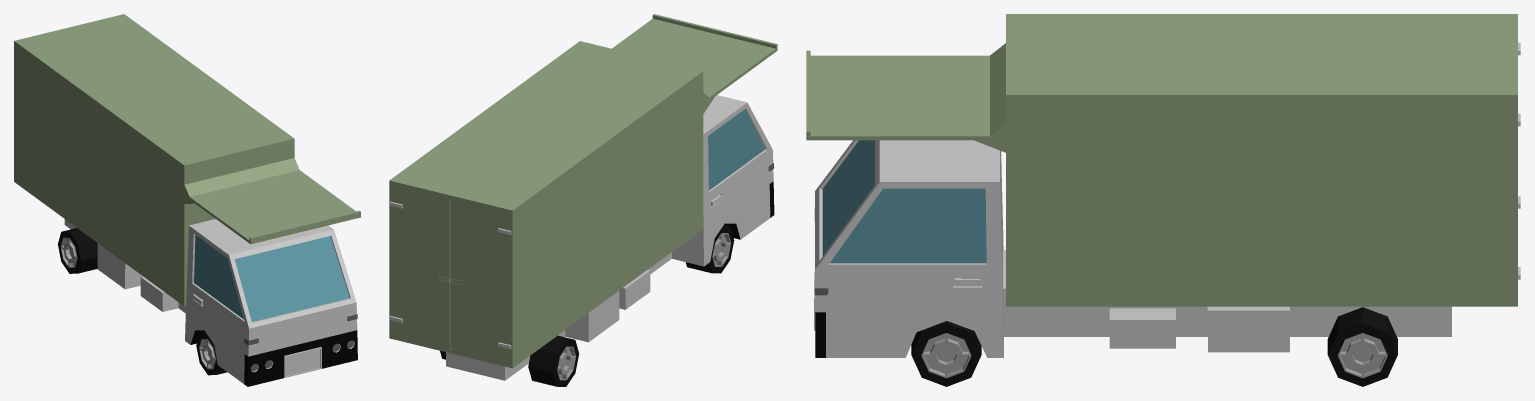
The model's file is Truck.obj.
3 views of the same model, side by side, from view 1: azimuth 30°, elevation 25°; view 2: azimuth 150°, elevation 25°; view 3: azimuth 270°, elevation 25° (orthographic). The views are drawn at different scales.
Parts seen in each view (by area): view 1: Truck_Cube; view 2: Truck_Cube; view 3: Truck_Cube.
Boxes of the visible parts, x1,y1,x2,y2 form: Truck_Cube: [14, 14, 360, 386]; Truck_Cube: [389, 14, 777, 386]; Truck_Cube: [806, 14, 1520, 386].
Bounding box in the file's own units: 0.5973 × 1.02 × 2.23.
